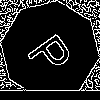P: (25, 25, 82, 79)
